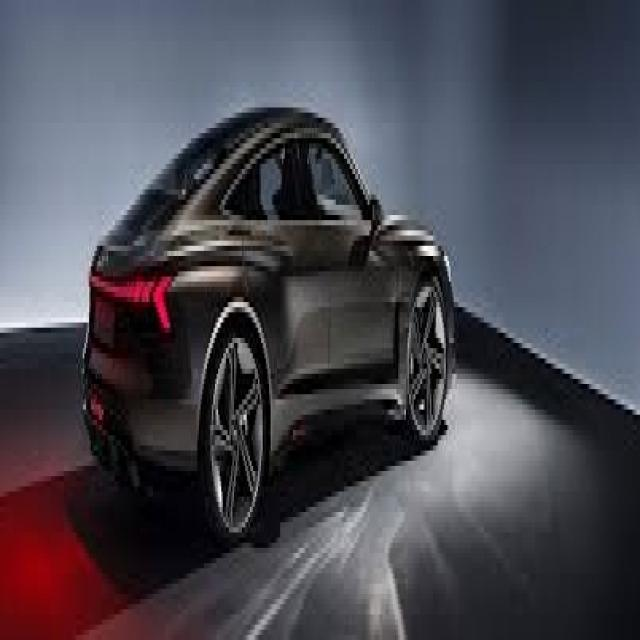black: (75, 61, 424, 526)
